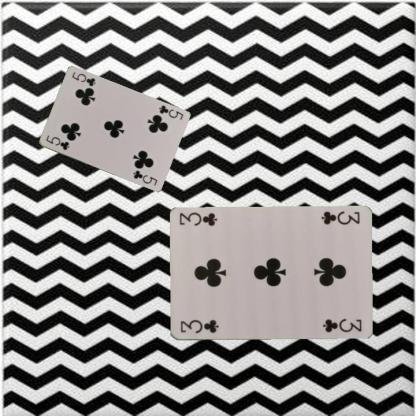3c: (318, 208, 361, 226), (178, 317, 220, 335)
5c: (43, 132, 70, 152), (156, 103, 184, 121)
